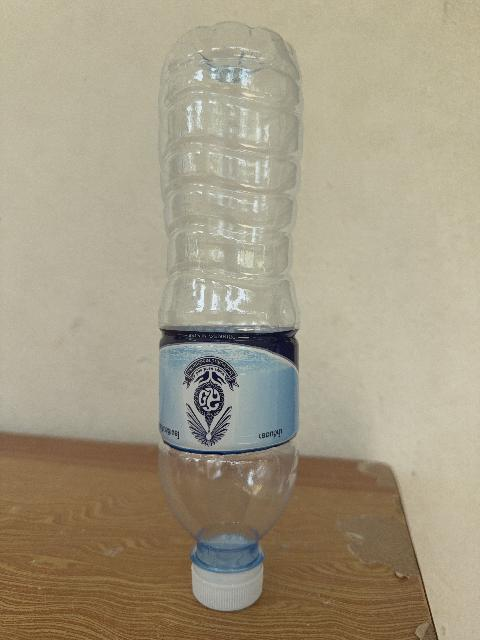bottle: (159, 22, 302, 610)
